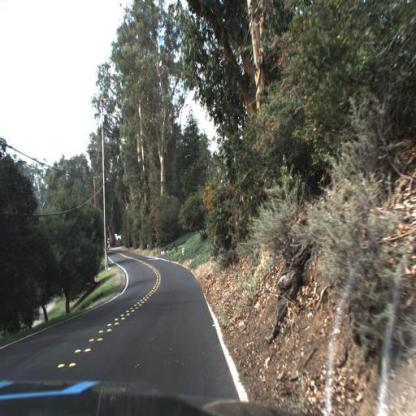car: (114, 229, 126, 247)
